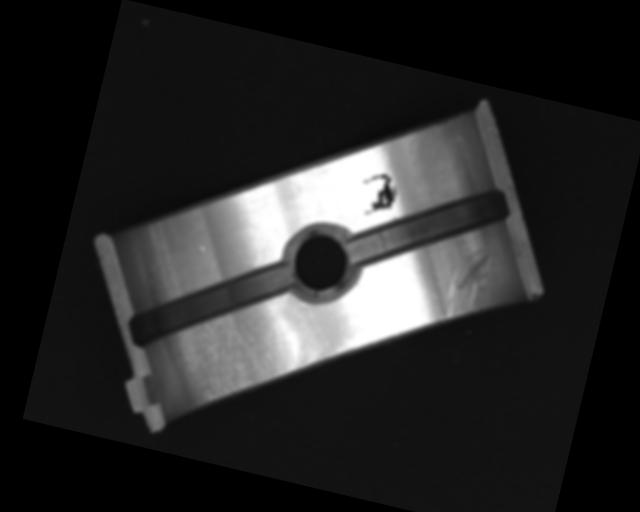blot: (354, 168, 401, 221)
bruise: (194, 243, 206, 255)
gap: (123, 233, 297, 378), (348, 161, 514, 296)
hole: (274, 216, 365, 306)
nick: (442, 238, 497, 327)
scratch: (161, 303, 327, 432)
